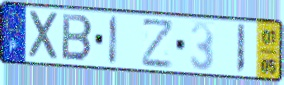3: (189, 20, 216, 73)
B: (60, 12, 95, 64)
I: (107, 13, 120, 68), (235, 23, 247, 76)
X: (27, 8, 61, 63)
Z: (141, 18, 176, 70)
